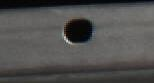holes: (62, 16, 94, 44)
